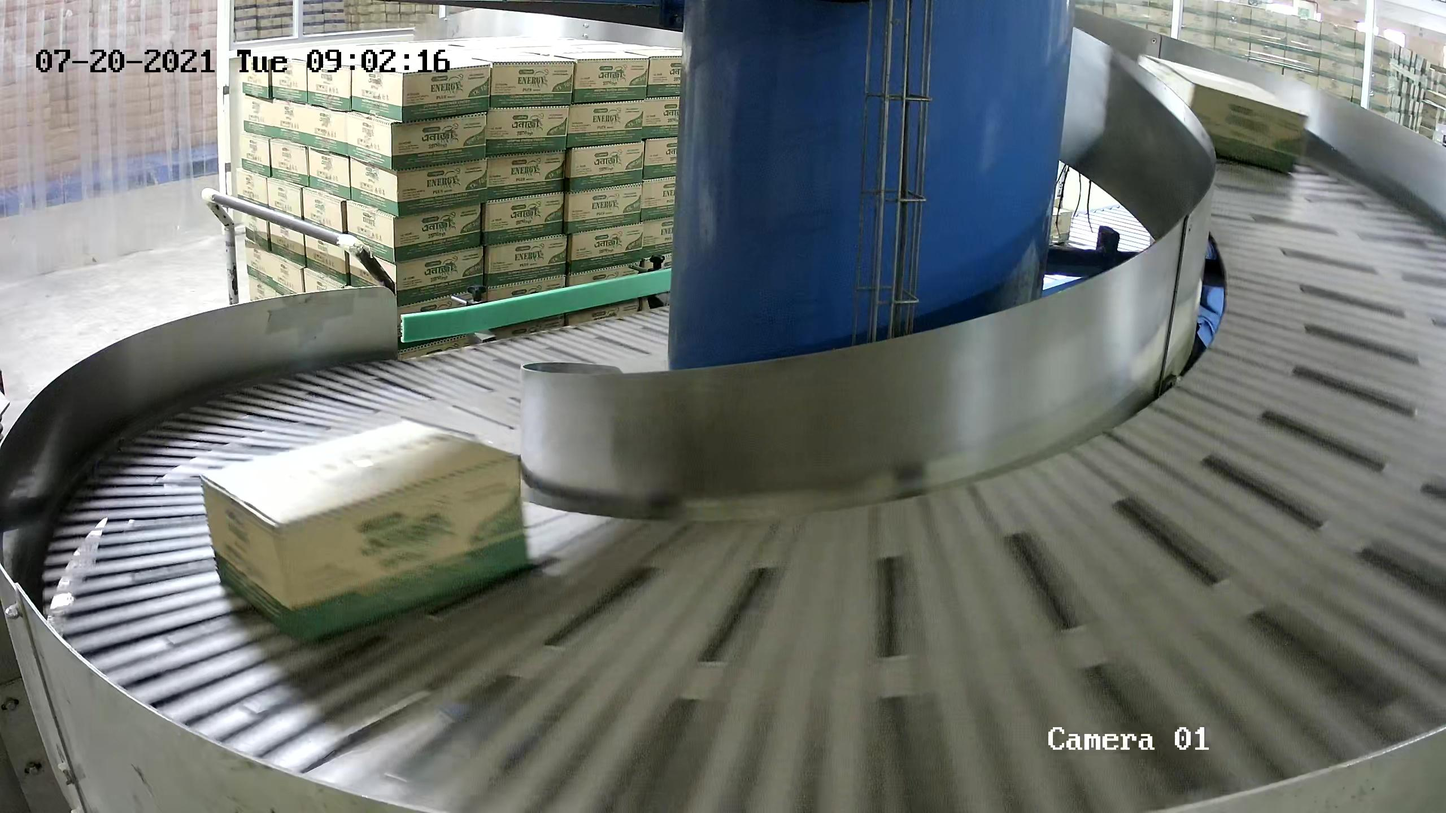Box: (198, 418, 532, 643), (1137, 53, 1310, 175)
